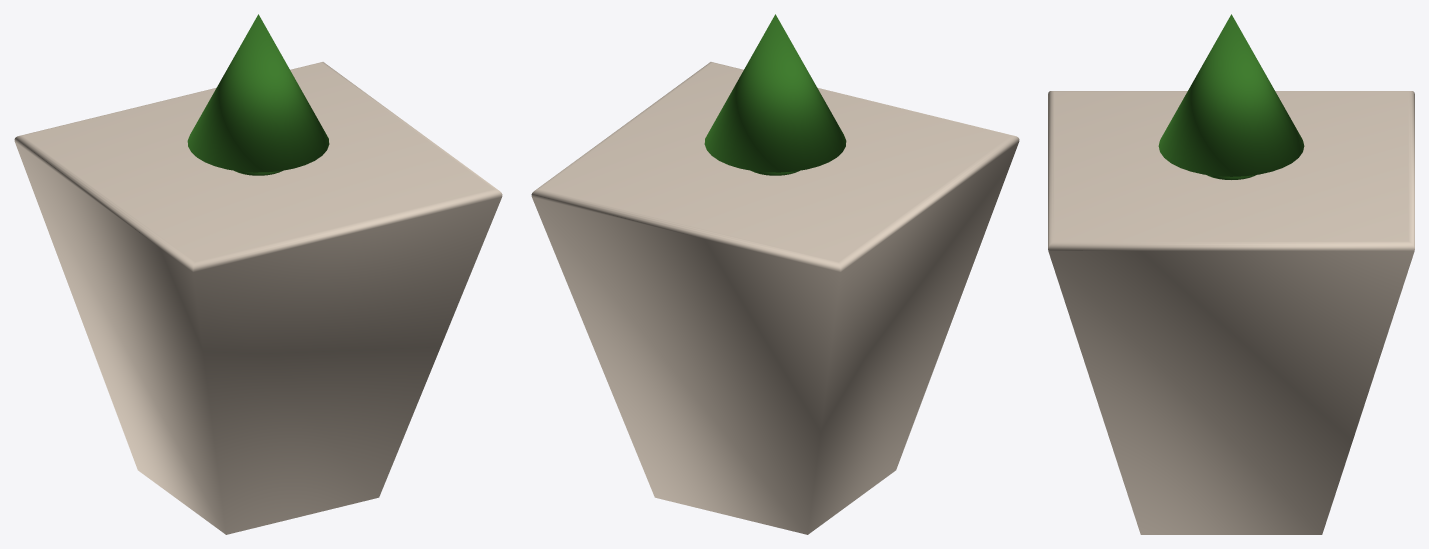
File: appetite2.glb
3 views of the same model, side by side, from view 1: azimuth 30°, elevation 25°; view 2: azimuth 150°, elevation 25°; view 3: azimuth 270°, elevation 25° (orthographic). The views are drawn at different scales.
Parts seen in each view (by area): view 1: Cube; view 2: Cube; view 3: Cube.
Boxes of the visible parts, x1,y1,x2,y2 form: Cube: [14, 14, 502, 534]; Cube: [531, 14, 1019, 534]; Cube: [1048, 14, 1414, 534].
Size of the model in its own units: 3.37 by 4.9 by 3.37.
